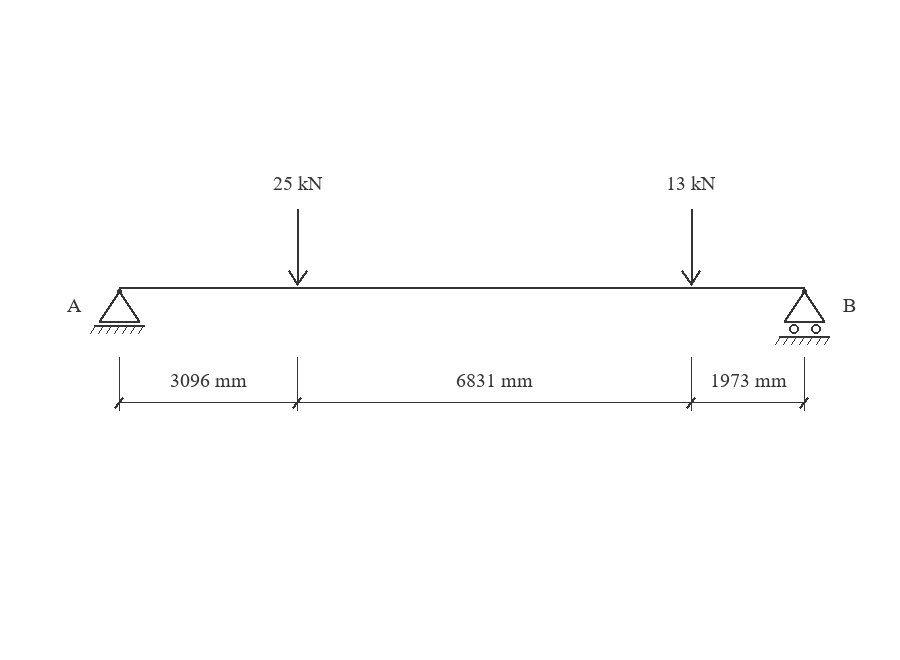pin_support: (90, 289, 145, 334)
point_load: (288, 209, 308, 286), (681, 209, 701, 286)
roller_support: (775, 289, 830, 345)
